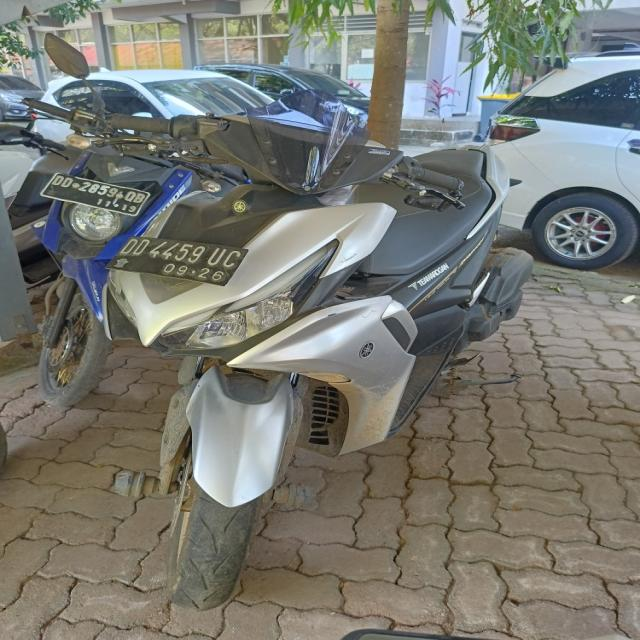plates: (117, 237, 239, 293), (38, 166, 158, 221)
